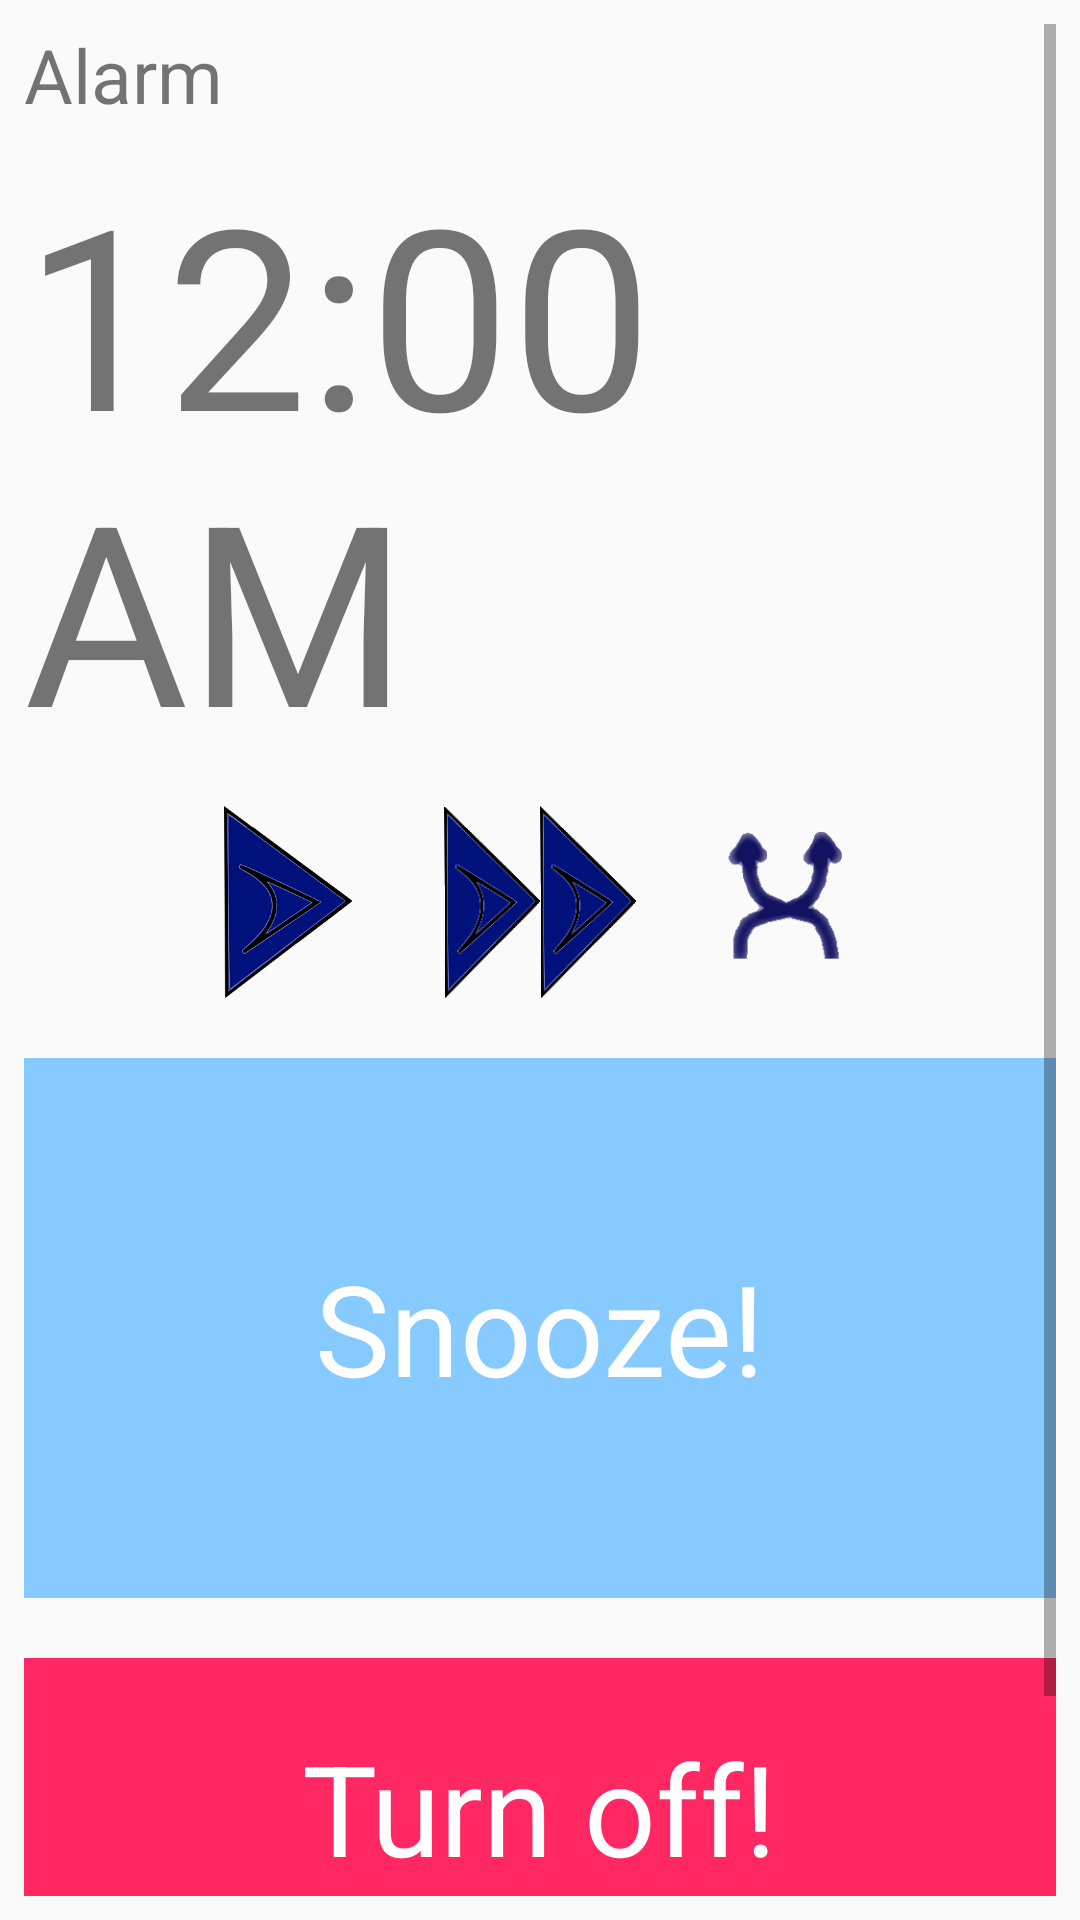

Where icons sit on this 1080px×1920px app screen, as (x1, y1, x2, y2):
next: (444, 806, 636, 998)
play: (224, 806, 352, 998)
random: (728, 832, 842, 959)
